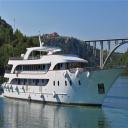cruises: (2, 35, 128, 110)
